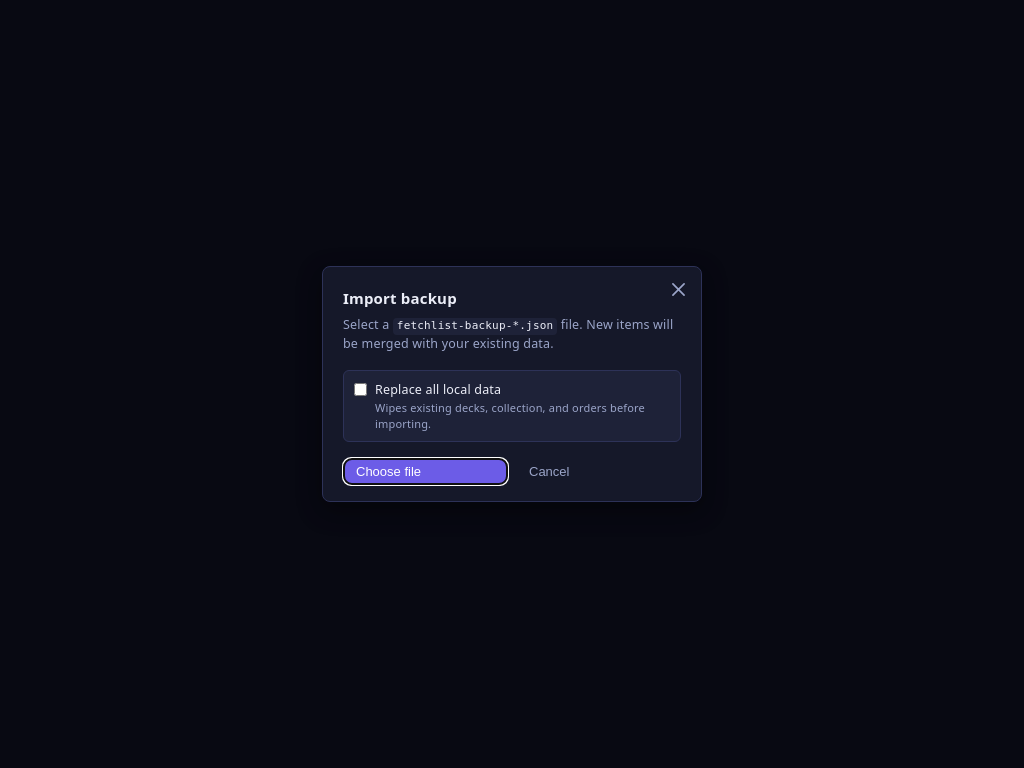
it: ImportBackupModal › shows an error when the native picker fails for another reason
Click the button "Choose file": (426, 472) top-left (343, 458), bottom-right (508, 485)
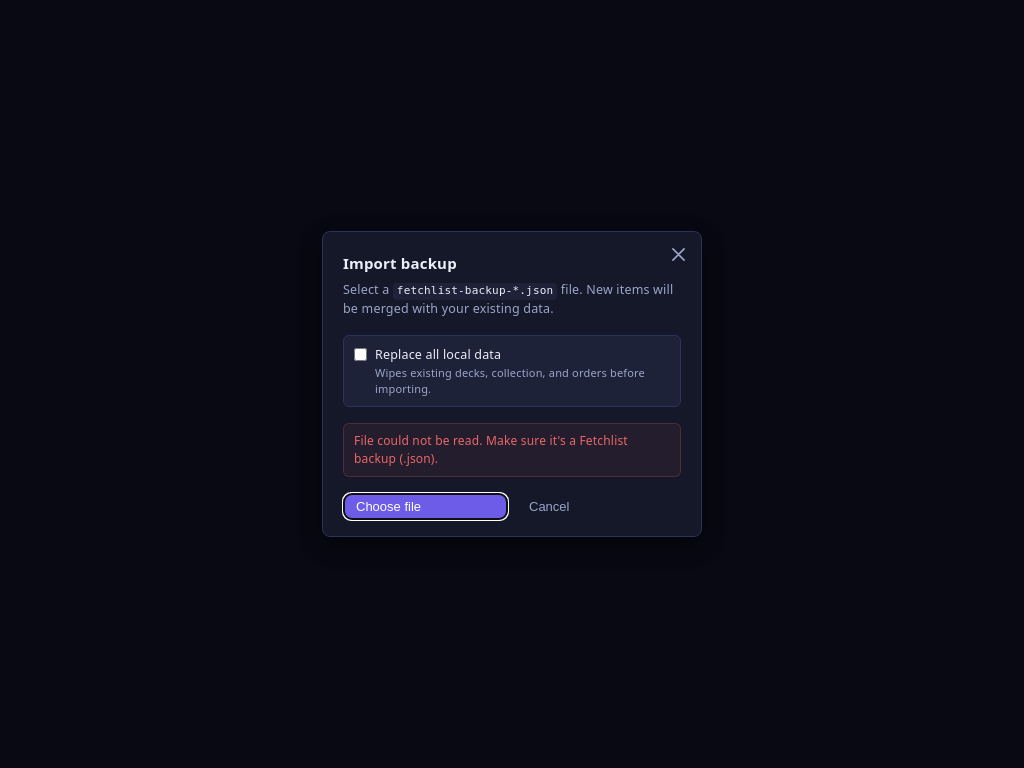
Now the message shows "File could not be read.", box top-left (354, 432), bottom-right (628, 467)
